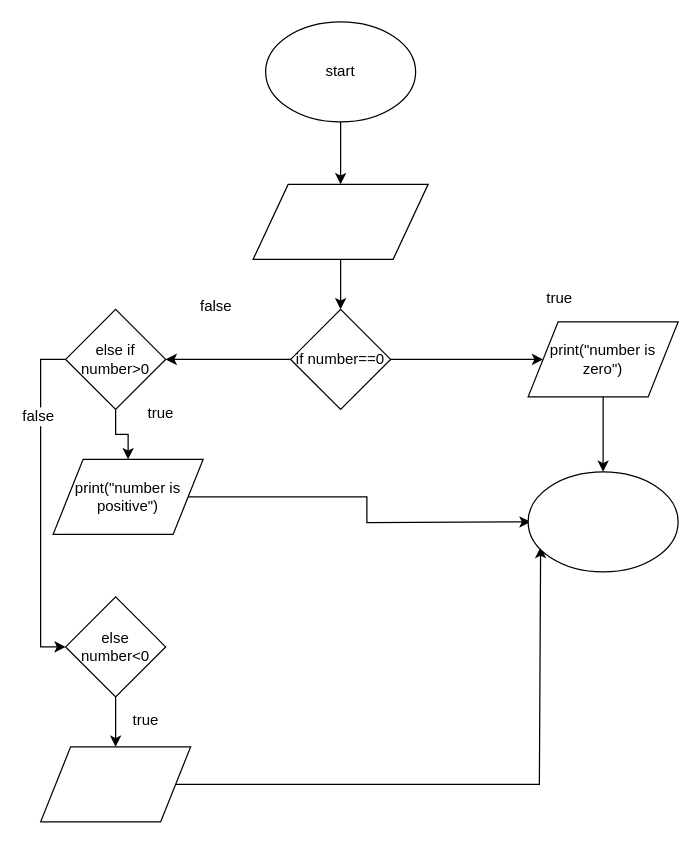
Image size: 700x844. Some labels were removed from this diagram. The box of each missing label's shape, as (x1, y1, x2, y2) in pixels:
accept the number: (252, 183, 428, 259)
print(number is negative"): (39, 746, 191, 822)
stop: (527, 471, 678, 572)
